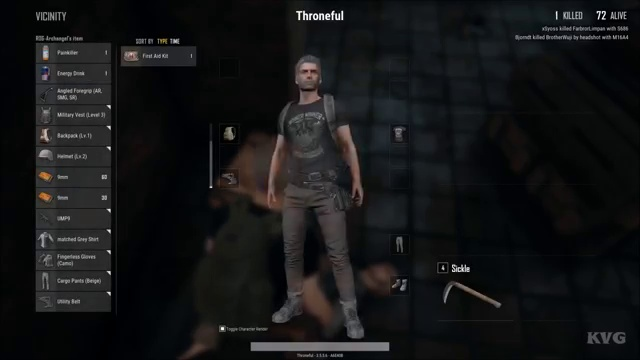Player: (254, 41, 374, 309)
